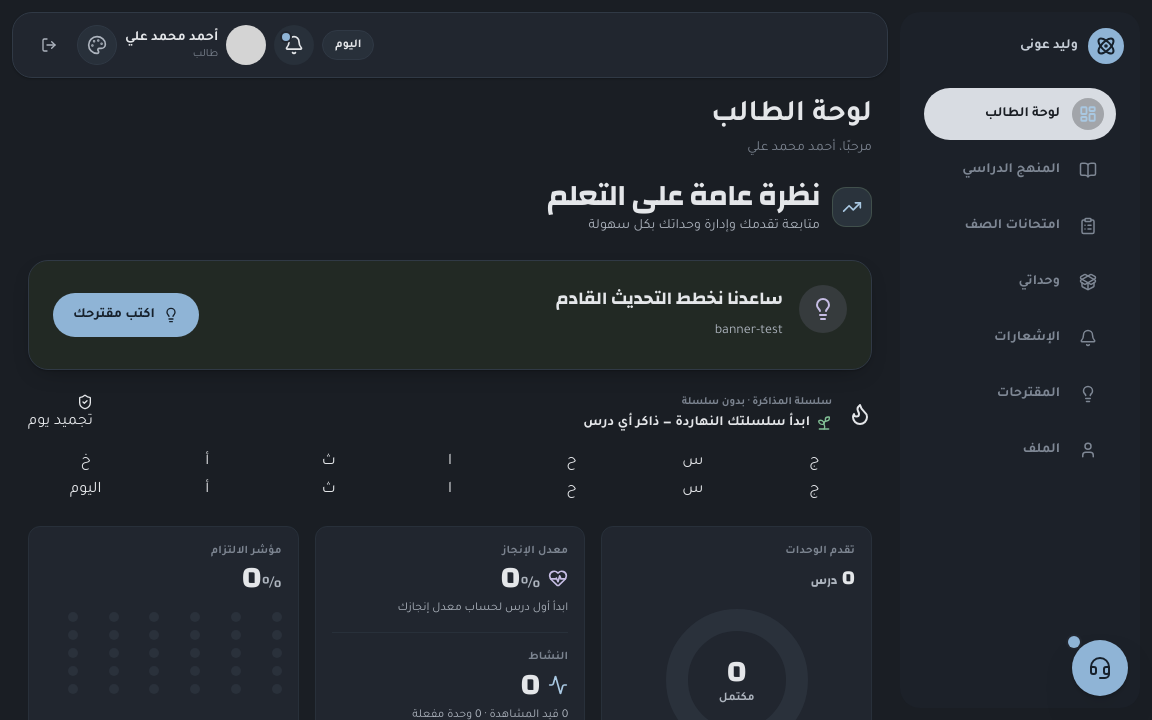
Test case: route guards › signs out from the header and lands on the login page
Expected: the heading "لوحة الطالب" is shown, x1=711 y1=98 x2=872 y2=134
Click the button named "تسجيل الخروج" at (49, 45), box x1=29 y1=25 x2=69 y2=65
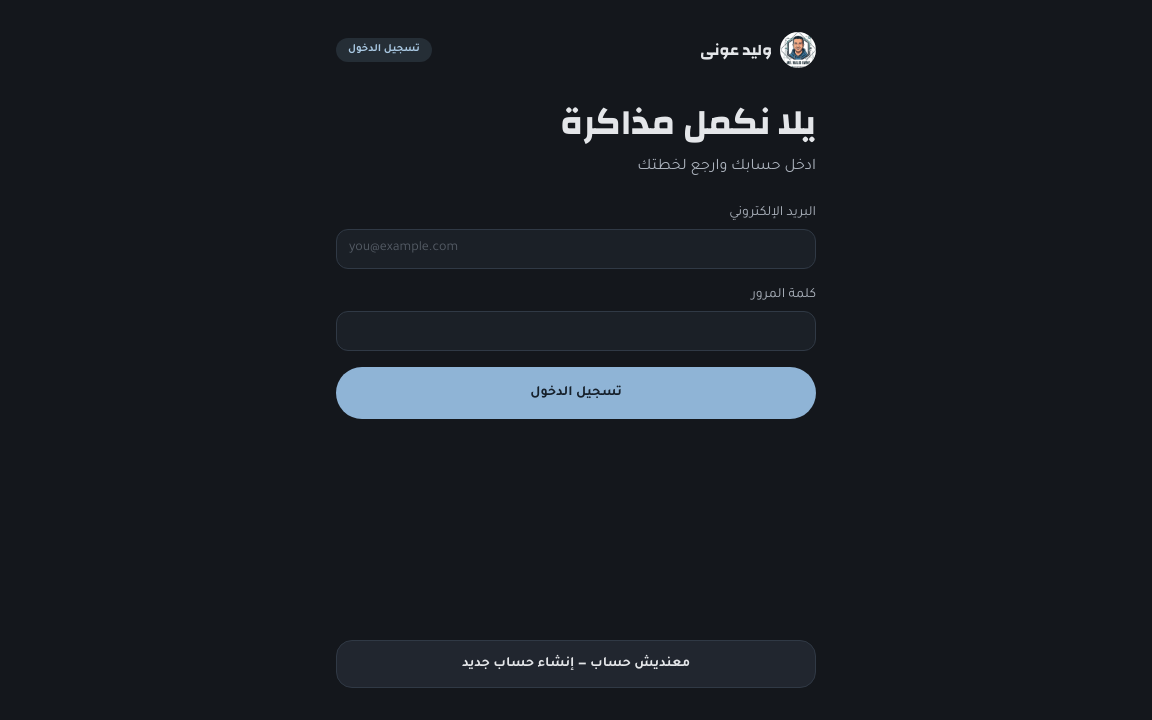
Expected: the heading "يلا نكمل مذاكرة" is shown, x1=560 y1=90 x2=816 y2=156
